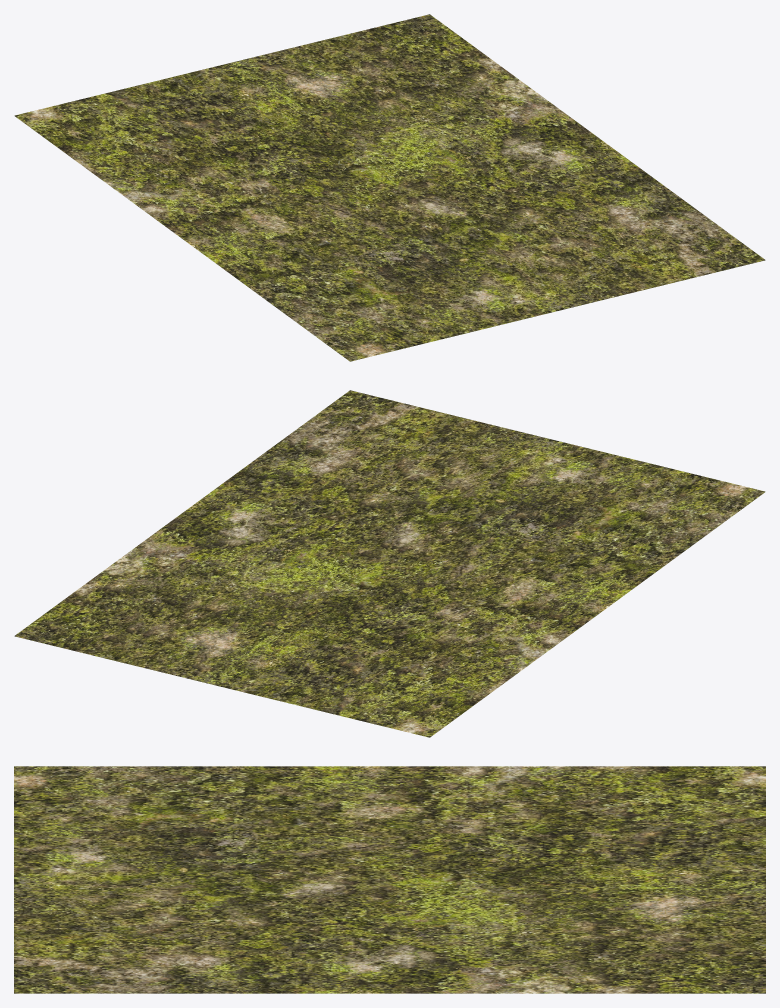
File: Ground.obj
The picture shows the model from 3 angles, top to bottom: view 1: azimuth 30°, elevation 25°; view 2: azimuth 150°, elevation 25°; view 3: azimuth 270°, elevation 25°; orthographic projection. The views are drawn at different scales.
Visible parts, largest first — view 1: pPlane1; view 2: pPlane1; view 3: pPlane1.
Part boxes in pixels (x1=…): pPlane1: x1=14, y1=14, x2=765, y2=361; pPlane1: x1=14, y1=390, x2=765, y2=737; pPlane1: x1=14, y1=766, x2=765, y2=993.
Bounding box in the file's own units: 500 × 0 × 700.
1 material, 1 textured.
